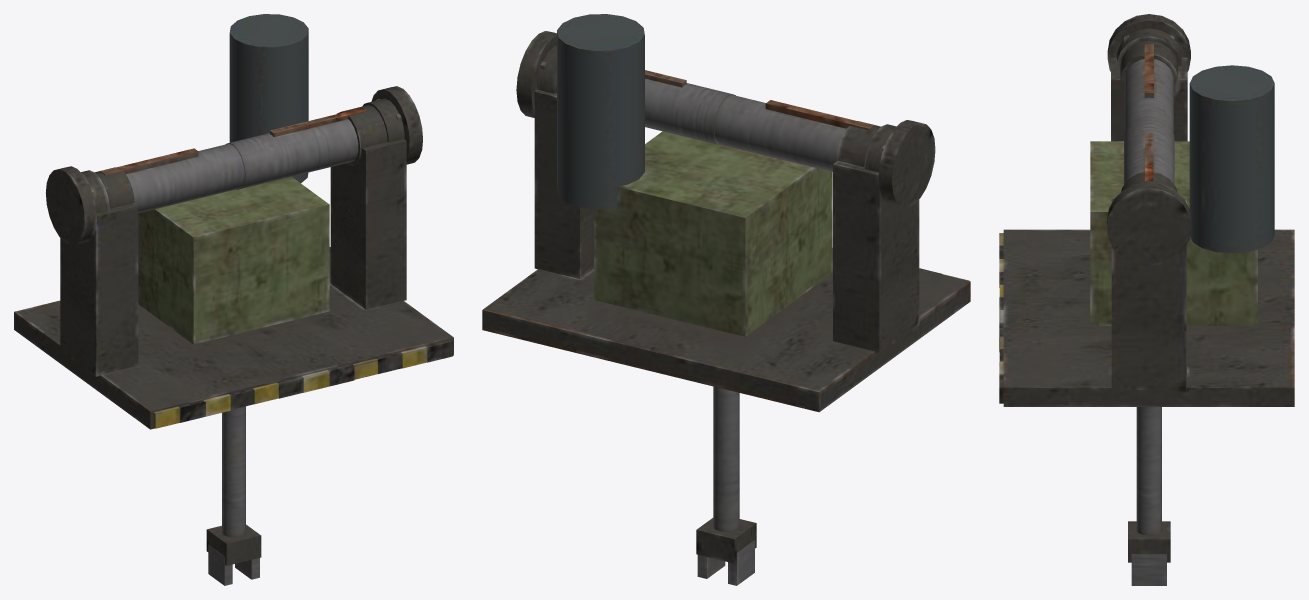
The model's file is feInserter.glb.
3 renders of one model, left to right at view 1: azimuth 30°, elevation 25°; view 2: azimuth 150°, elevation 25°; view 3: azimuth 270°, elevation 25°, orthographic. The views are drawn at different scales.
Parts seen in each view (by area): view 1: feInserter_Base, FeSpin_DriveShaft, FePiston_InlinePick; view 2: feInserter_Base, FeSpin_DriveShaft, FePiston_InlinePick; view 3: feInserter_Base, FeSpin_DriveShaft, FePiston_InlinePick.
Boxes of the visible parts, <box> form: feInserter_Base: <box>14,14,453,429</box>; FeSpin_DriveShaft: <box>46,86,422,245</box>; FePiston_InlinePick: <box>206,406,261,585</box>; feInserter_Base: <box>482,14,970,412</box>; FeSpin_DriveShaft: <box>516,31,935,207</box>; FePiston_InlinePick: <box>696,386,756,585</box>; feInserter_Base: <box>999,40,1294,406</box>; FeSpin_DriveShaft: <box>1106,14,1191,266</box>; FePiston_InlinePick: <box>1128,407,1170,585</box>.
Size of the model in its own units: 1 by 1.41 by 0.7121.
Materials: 1 (1 with a texture image).
